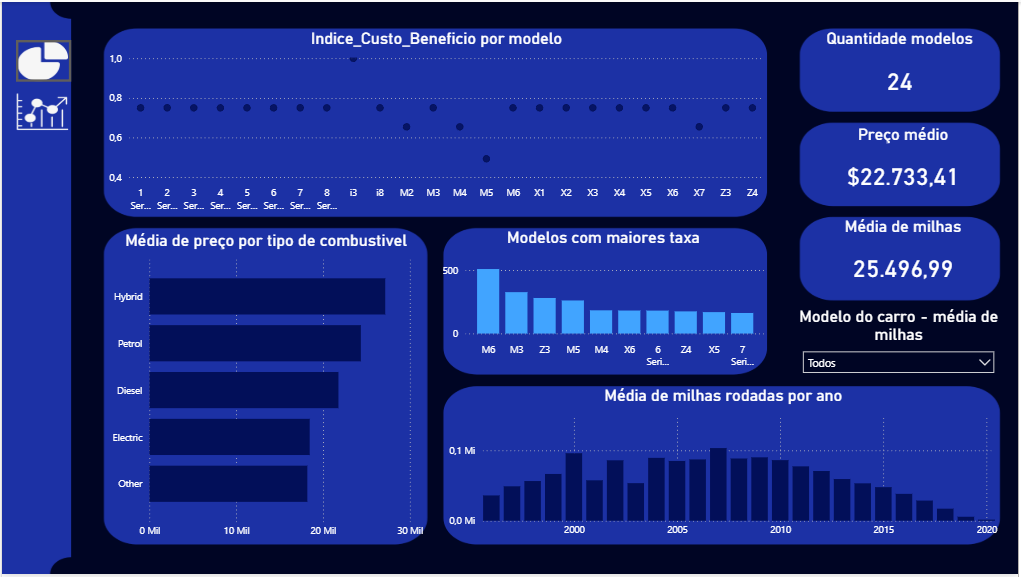

Layout of this report page (visuals, bound fields, positions):
{"tool":"powerbi","page":{"name":"relaçoes","canvas":[1280,720],"ordinal":1},"visuals":[{"type":"card","title":"Quantidade modelos","fields":{"Values":["_metricas.qtd_modelos"]},"box":[1001.2,34.2,258.8,105.1],"z":0},{"type":"card","title":"Preço médio","fields":{"Values":["_metricas.preco_medio"]},"box":[1010.4,155,249.6,103.8],"z":1000},{"type":"card","title":"Média de milhas","fields":{"Values":["_metricas.media_milhas_rodadas"]},"box":[1010.4,270.7,249.6,103.8],"z":2000},{"type":"scatterChart","title":"Indice_Custo_Beneficio por modelo","fields":{"Y":["custo_beneficio.Indice_Custo_Beneficio"],"X":["bmw.model"]},"box":[130.3,33.7,835.4,237.6],"z":3000},{"type":"clusteredColumnChart","title":"Média de milhas rodadas por ano","fields":{"Category":["bmw.year"],"Y":["_metricas.media_milhas_rodadas"]},"box":[558.4,483.5,701.6,199.7],"z":4000},{"type":"slicer","title":"Modelo do carro - média de milhas","fields":{"Values":["bmw.model"]},"box":[998.5,383.6,261.5,85.4],"z":5000},{"type":"clusteredBarChart","title":"Média de preço por tipo de combustivel","fields":{"Y":["Avg(bmw.price)"],"Category":["bmw.fuelType"]},"box":[130.1,289.1,406,395.5],"z":5001},{"type":"columnChart","title":"Modelos com maiores taxa","fields":{"Category":["bmw.model"],"Y":["Avg(bmw.tax)"]},"box":[548.8,285.1,417,184],"z":5002},{"type":"actionButton","box":[17.1,47.3,69.6,52.6],"z":5003}]}

Visuals, with their boxes in screenshot pixels (x1, y1, x2, y2), scaled from the page's 1280x720 canvas onto the 1021x577 screenshot:
"Quantidade modelos" card: x1=799 y1=27 x2=1005 y2=112
"Preço médio" card: x1=806 y1=124 x2=1005 y2=207
"Média de milhas" card: x1=806 y1=217 x2=1005 y2=300
"Indice_Custo_Beneficio por modelo" scatterChart: x1=104 y1=27 x2=770 y2=217
"Média de milhas rodadas por ano" clusteredColumnChart: x1=445 y1=387 x2=1005 y2=548
"Modelo do carro - média de milhas" slicer: x1=796 y1=307 x2=1005 y2=376
"Média de preço por tipo de combustivel" clusteredBarChart: x1=104 y1=232 x2=428 y2=549
"Modelos com maiores taxa" columnChart: x1=438 y1=228 x2=770 y2=376
actionButton: x1=14 y1=38 x2=69 y2=80
